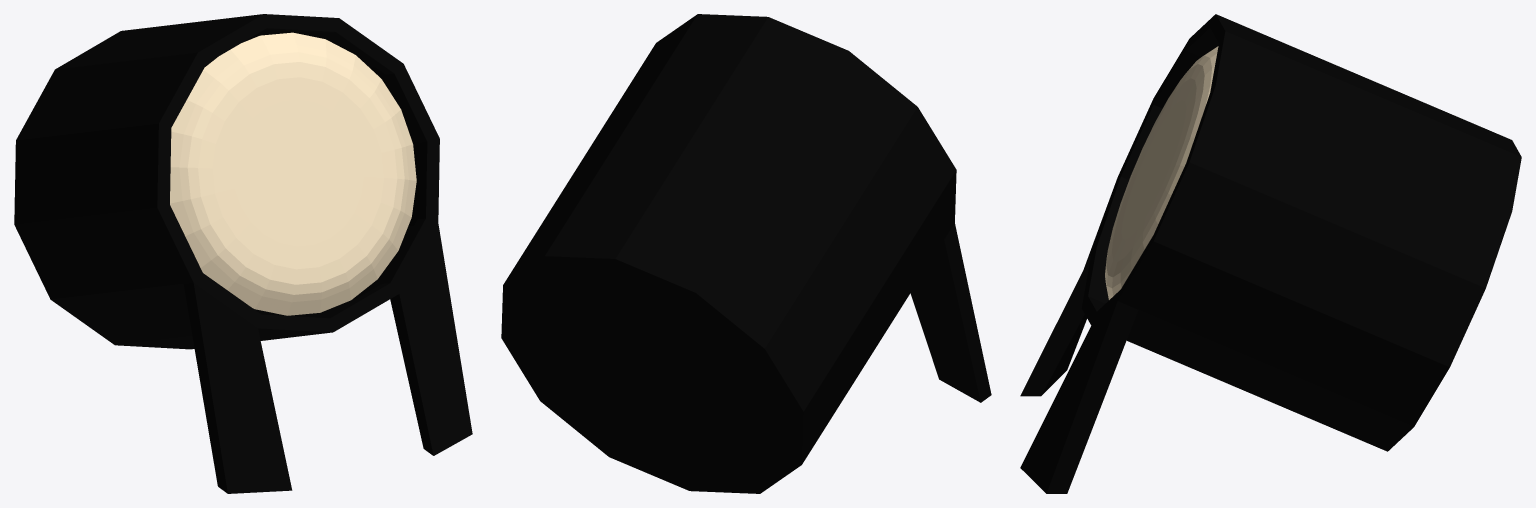
The model's file is LightCannon.fbx.
3 renders of one model, left to right at view 1: azimuth 30°, elevation 25°; view 2: azimuth 150°, elevation 25°; view 3: azimuth 270°, elevation 25°, orthographic. The views are drawn at different scales.
Parts seen in each view (by area): view 1: Frame, Light; view 2: Frame; view 3: Frame, Light.
Part boxes in pixels (left/top/right/bottom): Frame: left=14, top=14, right=472, bottom=493; Light: left=170, top=32, right=416, bottom=315; Frame: left=501, top=14, right=991, bottom=493; Frame: left=1020, top=14, right=1521, bottom=493; Light: left=1105, top=46, right=1218, bottom=299.
Size of the model in its own units: 390 by 514 by 579.
